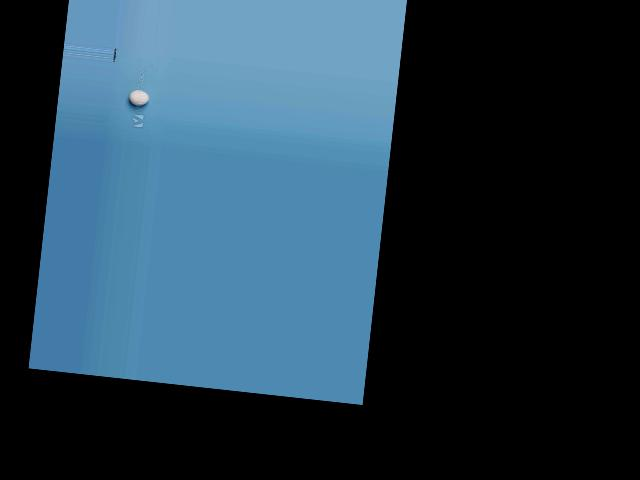egg: (128, 89, 149, 106)
